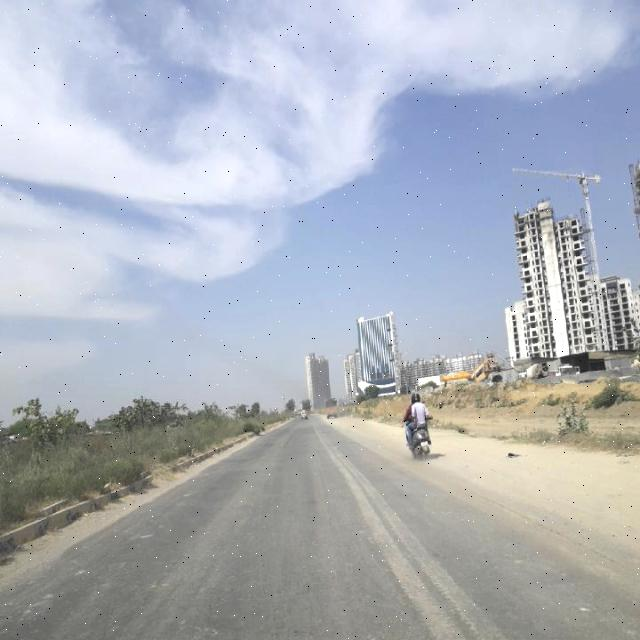D44: (338, 462, 501, 636)
